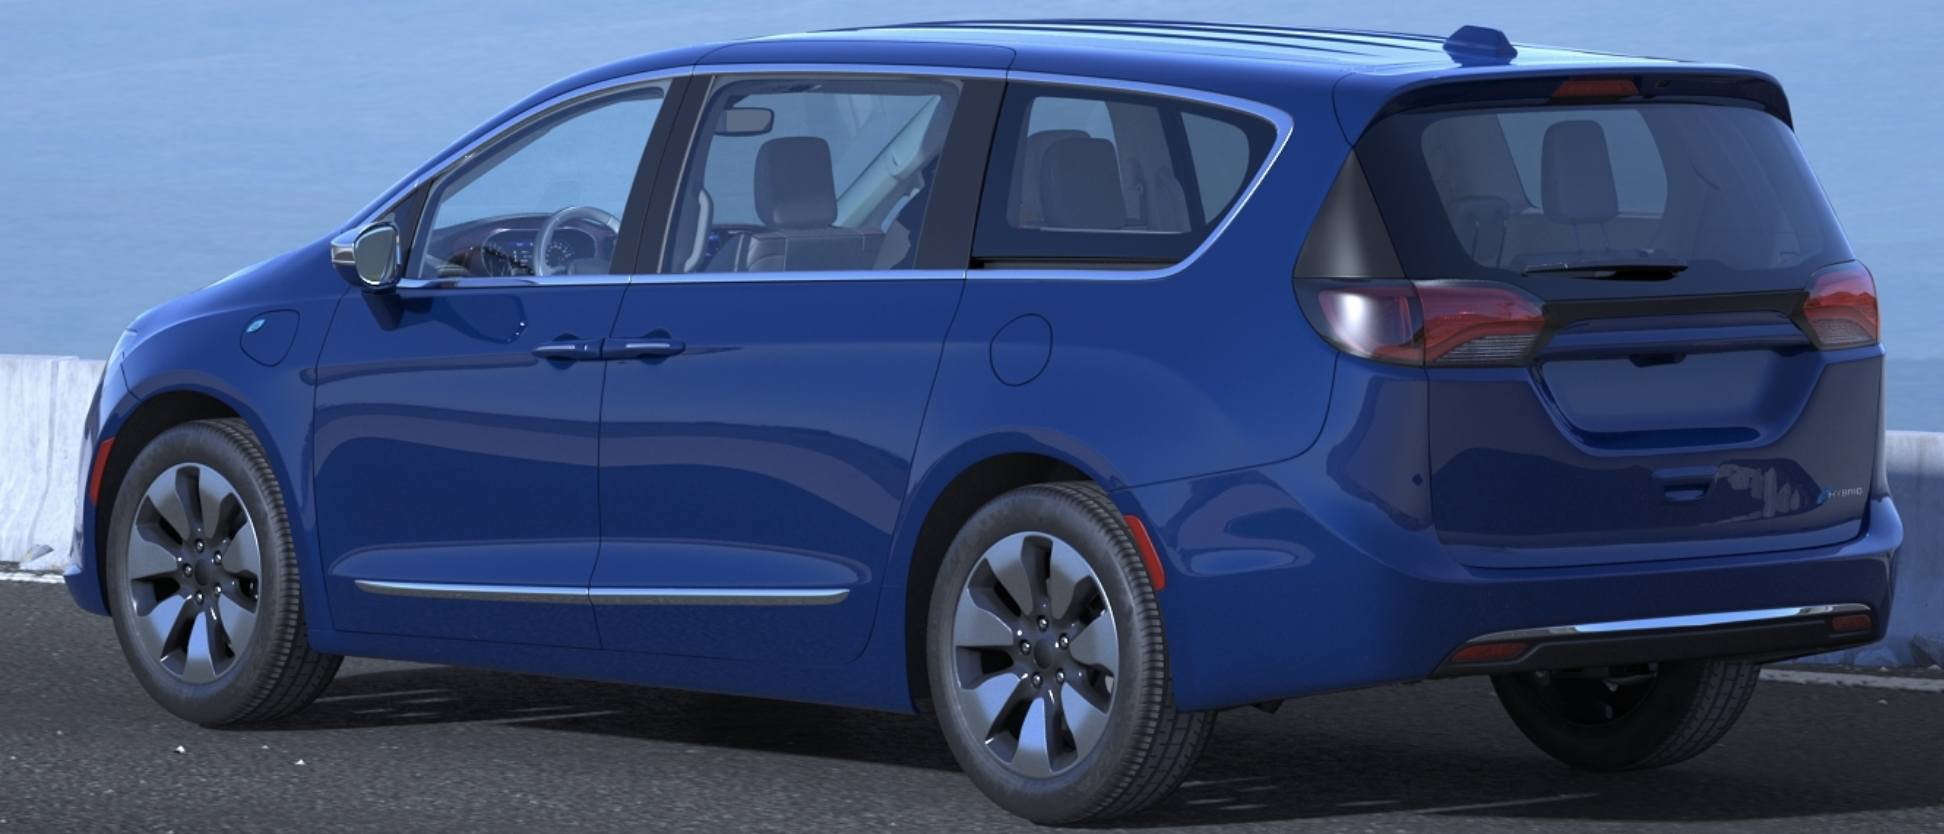hatch: (976, 302, 1065, 398), (233, 297, 310, 375)
